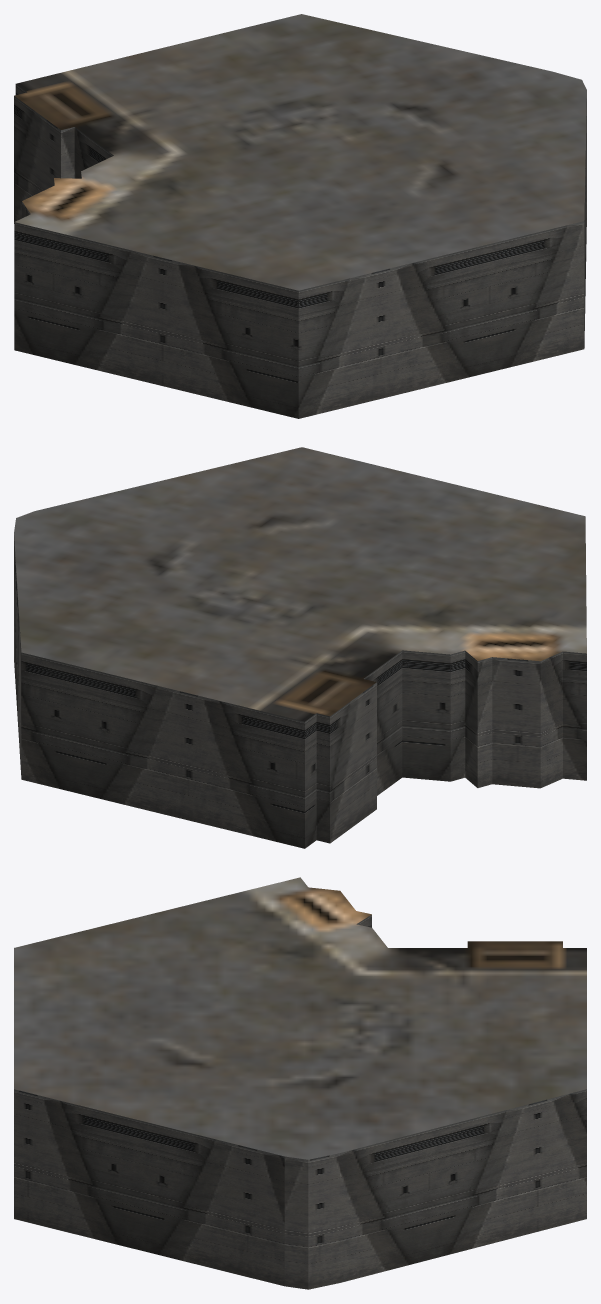
Rendered from fortress_light_a_31.glb.
The picture shows the model from 3 angles, top to bottom: view 1: azimuth 30°, elevation 25°; view 2: azimuth 150°, elevation 25°; view 3: azimuth 270°, elevation 25°; orthographic projection. The views are drawn at different scales.
Parts seen in each view (by area): view 1: buildings/saxarba/fortress_light/fortress_light_a_31; view 2: buildings/saxarba/fortress_light/fortress_light_a_31; view 3: buildings/saxarba/fortress_light/fortress_light_a_31.
Part boxes in pixels (bbox=[...]): buildings/saxarba/fortress_light/fortress_light_a_31: bbox=[14, 14, 586, 418]; buildings/saxarba/fortress_light/fortress_light_a_31: bbox=[14, 447, 586, 848]; buildings/saxarba/fortress_light/fortress_light_a_31: bbox=[14, 877, 586, 1289].
Bounding box in the file's own units: 84 × 18 × 72.
